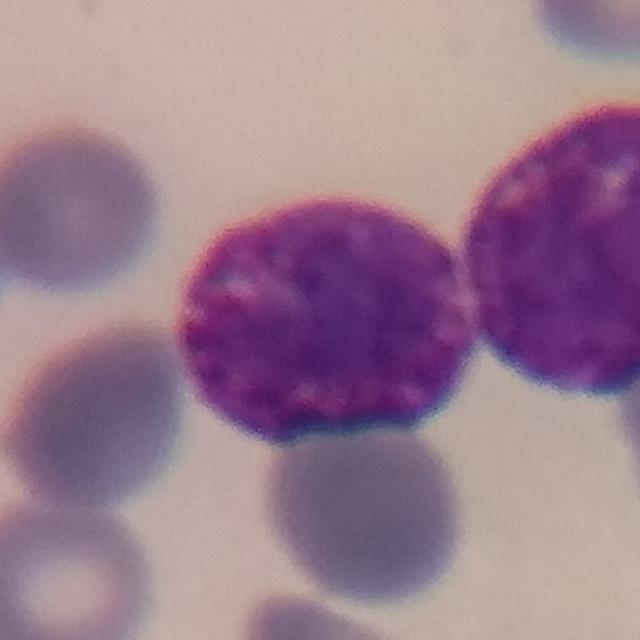Basophil: (158, 176, 496, 457), (464, 94, 640, 406)
RBC: (252, 400, 475, 616), (2, 318, 196, 514), (0, 117, 173, 303), (0, 494, 164, 640), (230, 586, 418, 640), (518, 0, 640, 71), (605, 334, 640, 527)
